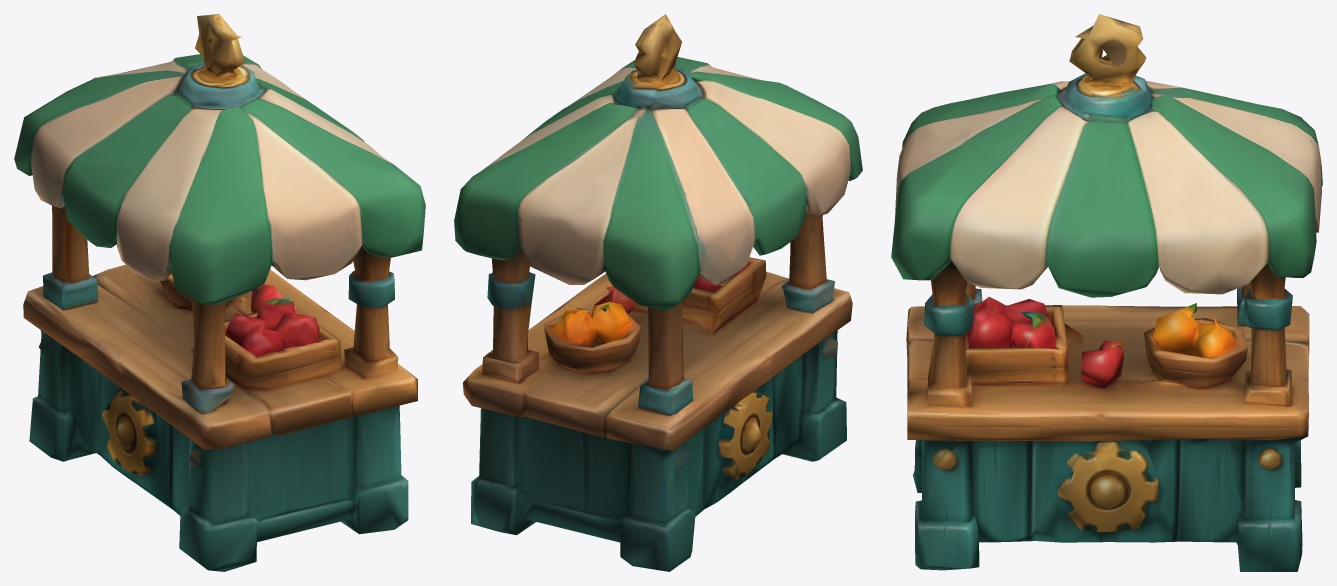
File: Kit_X_StallGreen_raw.glb
3 views of the same model, side by side, from view 1: azimuth 30°, elevation 25°; view 2: azimuth 150°, elevation 25°; view 3: azimuth 270°, elevation 25° (orthographic). The views are drawn at different scales.
Visible parts, largest first — view 1: tripo_node_32eafbd4-2536-44d5-aadb-06a0951586a0; view 2: tripo_node_32eafbd4-2536-44d5-aadb-06a0951586a0; view 3: tripo_node_32eafbd4-2536-44d5-aadb-06a0951586a0.
Part boxes in pixels (box(x1,y1,x2,y2)): tripo_node_32eafbd4-2536-44d5-aadb-06a0951586a0: box(14, 14, 425, 571); tripo_node_32eafbd4-2536-44d5-aadb-06a0951586a0: box(454, 14, 862, 571); tripo_node_32eafbd4-2536-44d5-aadb-06a0951586a0: box(891, 14, 1322, 571).
Bounding box in the file's own units: 0.5795 × 1 × 0.7743.
1 material, 1 textured.
